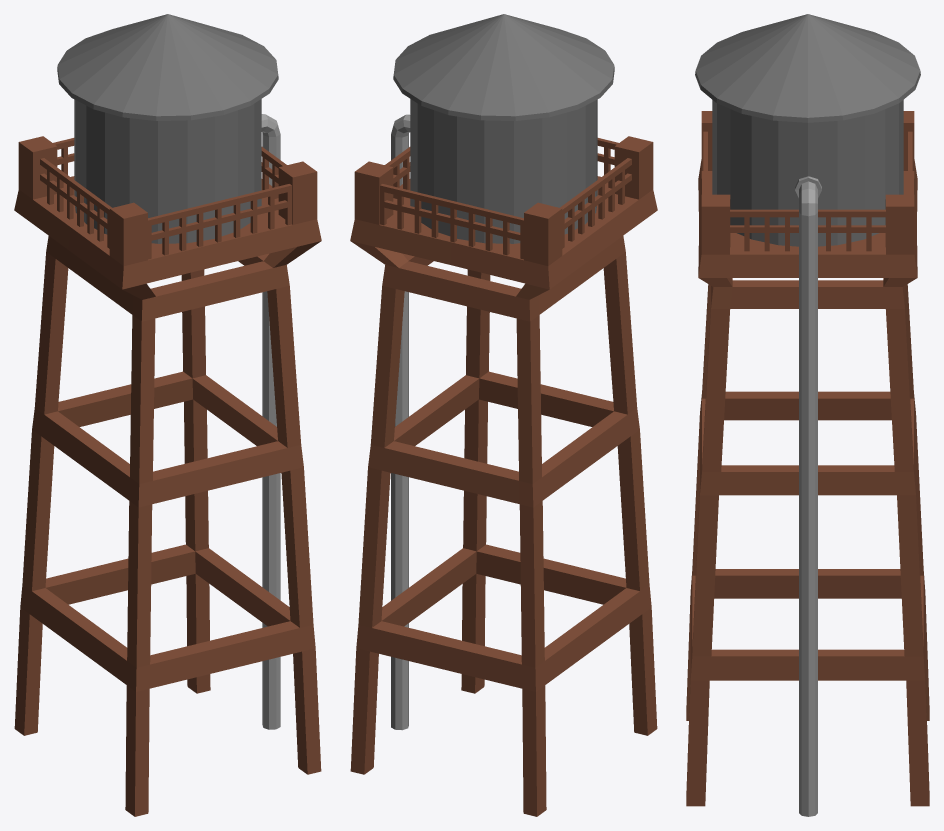
The model's file is water_tower.glb.
3 views of the same model, side by side, from view 1: azimuth 30°, elevation 25°; view 2: azimuth 150°, elevation 25°; view 3: azimuth 270°, elevation 25° (orthographic).
Parts seen in each view (by area): view 1: WaterTower_Cube.006; view 2: WaterTower_Cube.006; view 3: WaterTower_Cube.006.
Boxes of the visible parts, x1,y1,x2,y2 form: WaterTower_Cube.006: (14,14,321,816); WaterTower_Cube.006: (350,14,657,816); WaterTower_Cube.006: (686,14,929,816).
Size of the model in its own units: 2.53 by 8.43 by 2.49.
